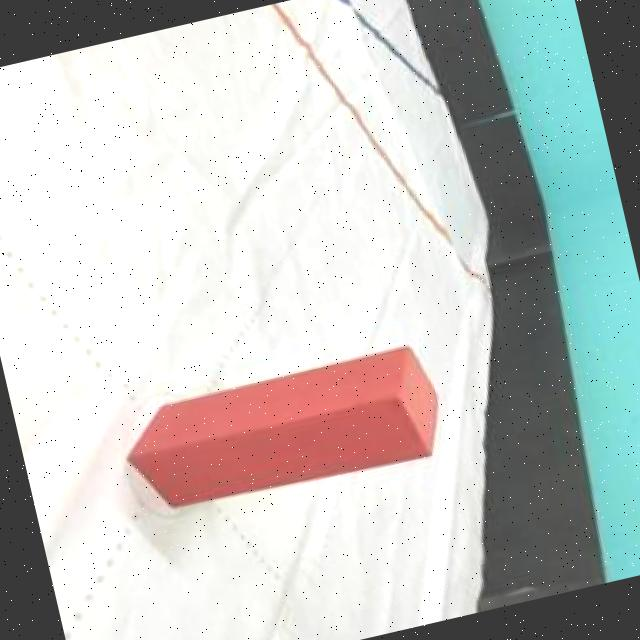redbox: (115, 341, 454, 522)
